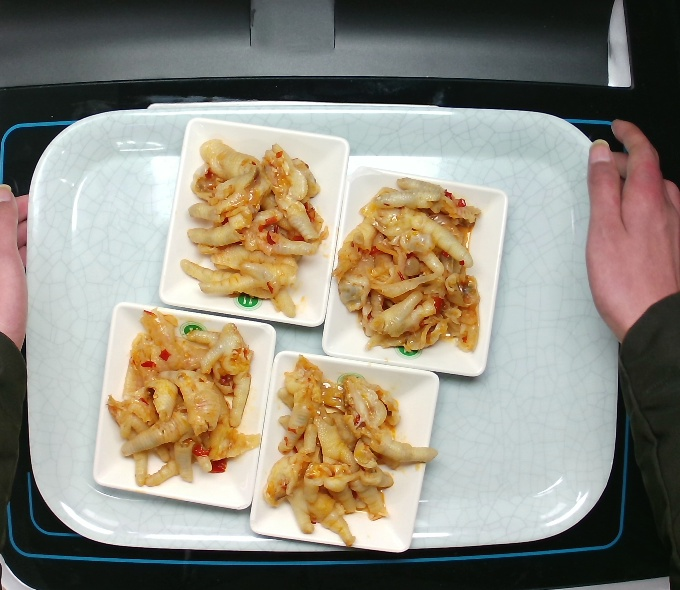wcq-LuJiZhua: (262, 348, 441, 552), (96, 294, 265, 493), (328, 171, 493, 360), (171, 135, 334, 324)
